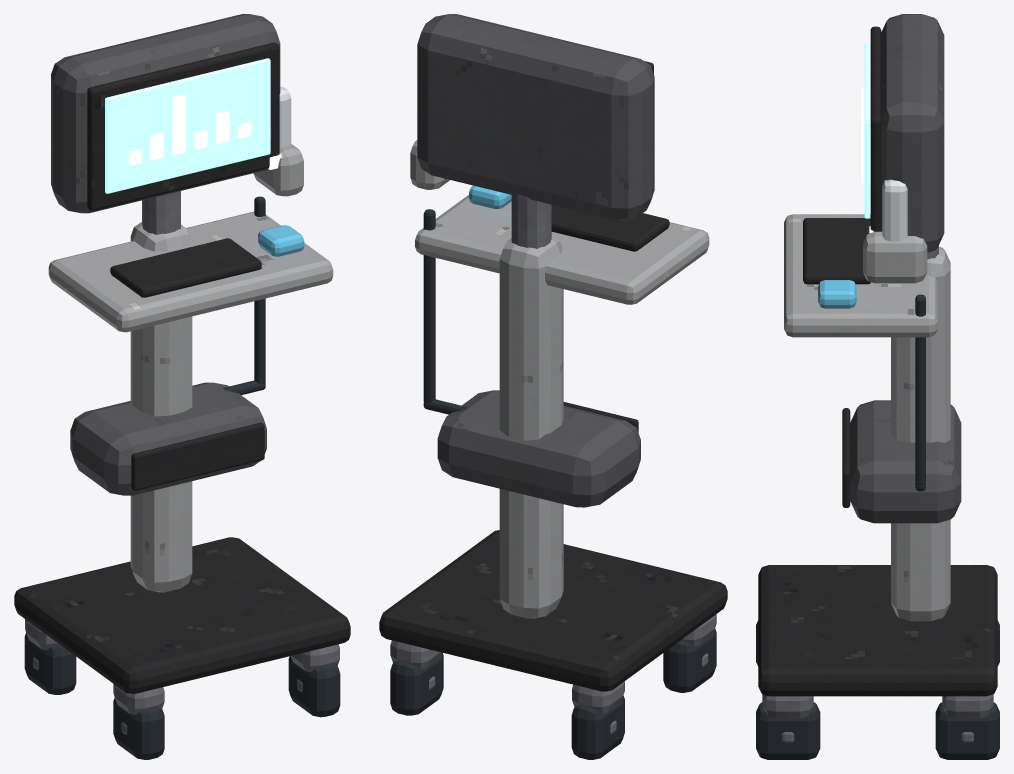
Rendered from decor_med_diagnostic_stand.glb.
3 renders of one model, left to right at view 1: azimuth 30°, elevation 25°; view 2: azimuth 150°, elevation 25°; view 3: azimuth 270°, elevation 25°, orthographic. The views are drawn at different scales.
Parts seen in each view (by area): view 1: DEC_MedDiagnosticStand__Base, DEC_MedDiagnosticStand__Monitor_Glass, DEC_MedDiagnosticStand__Controls_Tray, DEC_MedDiagnosticStand__Column, DEC_MedDiagnosticStand__Monitor, DEC_MedDiagnosticStand__Storage_Basket, DEC_MedDiagnosticStand__Monitor_Bezel, DEC_MedDiagnosticStand__Storage_Recess, DEC_MedDiagnosticStand__Keyboard, DEC_MedDiagnosticStand__Stand_Wheel_2, DEC_MedDiagnosticStand__Stand_Wheel_1, DEC_MedDiagnosticStand__Stand_Wheel_3 (+8 smaller); view 2: DEC_MedDiagnosticStand__Monitor, DEC_MedDiagnosticStand__Base, DEC_MedDiagnosticStand__Column, DEC_MedDiagnosticStand__Storage_Basket, DEC_MedDiagnosticStand__Controls_Tray, DEC_MedDiagnosticStand__Keyboard, DEC_MedDiagnosticStand__Stand_Wheel_3, DEC_MedDiagnosticStand__Stand_Wheel_4, DEC_MedDiagnosticStand__Stand_Wheel_1, DEC_MedDiagnosticStand__Cable_Down, DEC_MedDiagnosticStand__Column_Slide, DEC_MedDiagnosticStand__Stand_Fork_3 (+3 smaller); view 3: DEC_MedDiagnosticStand__Base, DEC_MedDiagnosticStand__Monitor, DEC_MedDiagnosticStand__Column, DEC_MedDiagnosticStand__Storage_Basket, DEC_MedDiagnosticStand__Controls_Tray, DEC_MedDiagnosticStand__Keyboard, DEC_MedDiagnosticStand__Probe_Cradle, DEC_MedDiagnosticStand__Stand_Wheel_2, DEC_MedDiagnosticStand__Stand_Wheel_4, DEC_MedDiagnosticStand__Monitor_Bezel, DEC_MedDiagnosticStand__Cable_Down, DEC_MedDiagnosticStand__Probe_Handle (+5 smaller).
Boxes of the visible parts, box(x1,y1,x2,y2) form: DEC_MedDiagnosticStand__Base: box(14, 537, 350, 693); DEC_MedDiagnosticStand__Monitor_Glass: box(105, 58, 270, 193); DEC_MedDiagnosticStand__Controls_Tray: box(48, 211, 333, 332); DEC_MedDiagnosticStand__Column: box(130, 222, 192, 592); DEC_MedDiagnosticStand__Monitor: box(51, 14, 280, 213); DEC_MedDiagnosticStand__Storage_Basket: box(70, 382, 266, 495); DEC_MedDiagnosticStand__Monitor_Bezel: box(87, 42, 279, 210); DEC_MedDiagnosticStand__Storage_Recess: box(131, 422, 264, 490); DEC_MedDiagnosticStand__Keyboard: box(110, 238, 261, 297); DEC_MedDiagnosticStand__Stand_Wheel_2: box(288, 656, 340, 717); DEC_MedDiagnosticStand__Stand_Wheel_1: box(113, 698, 164, 759); DEC_MedDiagnosticStand__Stand_Wheel_3: box(24, 633, 76, 694); DEC_MedDiagnosticStand__Monitor: box(417, 14, 654, 220); DEC_MedDiagnosticStand__Base: box(379, 530, 727, 691); DEC_MedDiagnosticStand__Column: box(499, 235, 563, 618); DEC_MedDiagnosticStand__Storage_Basket: box(437, 390, 640, 507); DEC_MedDiagnosticStand__Controls_Tray: box(415, 195, 709, 304); DEC_MedDiagnosticStand__Keyboard: box(551, 205, 669, 251); DEC_MedDiagnosticStand__Stand_Wheel_3: box(571, 695, 624, 759); DEC_MedDiagnosticStand__Stand_Wheel_4: box(390, 652, 443, 715); DEC_MedDiagnosticStand__Stand_Wheel_1: box(663, 628, 716, 692); DEC_MedDiagnosticStand__Cable_Down: box(423, 209, 435, 403); DEC_MedDiagnosticStand__Column_Slide: box(511, 194, 551, 248); DEC_MedDiagnosticStand__Stand_Fork_3: box(572, 681, 624, 713); DEC_MedDiagnosticStand__Base: box(758, 565, 997, 696); DEC_MedDiagnosticStand__Monitor: box(881, 14, 944, 252); DEC_MedDiagnosticStand__Column: box(891, 247, 950, 621); DEC_MedDiagnosticStand__Storage_Basket: box(850, 400, 961, 523); DEC_MedDiagnosticStand__Controls_Tray: box(784, 214, 937, 337); DEC_MedDiagnosticStand__Keyboard: box(803, 218, 870, 284); DEC_MedDiagnosticStand__Probe_Cradle: box(863, 231, 927, 283); DEC_MedDiagnosticStand__Stand_Wheel_2: box(756, 702, 820, 759); DEC_MedDiagnosticStand__Stand_Wheel_4: box(935, 702, 999, 759); DEC_MedDiagnosticStand__Monitor_Bezel: box(870, 26, 881, 231); DEC_MedDiagnosticStand__Cable_Down: box(915, 294, 925, 485); DEC_MedDiagnosticStand__Probe_Handle: box(882, 179, 907, 241).
Size of the model in its own units: 0.635 by 1.69 by 0.57.
9 materials, 4 textured.
